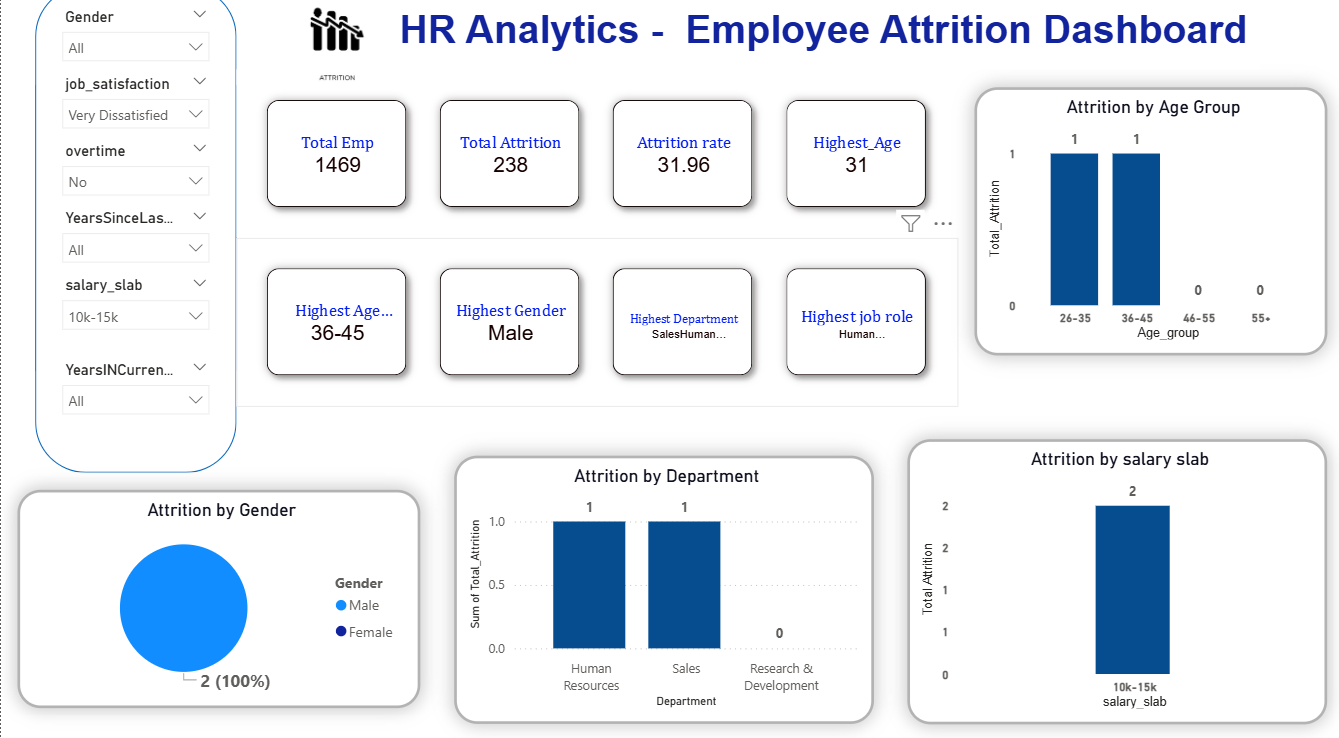

What the dashboard file says about the page in this screenshot:
{"tool":"powerbi","page":{"name":"Dashboard 1","canvas":[1280,720],"ordinal":1},"visuals":[{"type":"shape","box":[32,0,192,464],"z":0},{"type":"slicer","fields":{"Values":["job_satisfaction_attrition.job_satisfaction"]},"box":[48,80,160,64],"z":1000},{"type":"slicer","fields":{"Values":["overtime_attrition.overtime"]},"box":[48,144,160,64],"z":2000},{"type":"slicer","fields":{"Values":["Gender_attrition.Gender"]},"box":[48,16,160,64],"z":3000},{"type":"cardVisual","fields":{"Data":["Sum(Kpi_total_emp_gender.count(emp_id))","Sum(kpi_Total_attrition_gender.Total_Attrition)","Sum(Kpi_total_attrition_rate_gender.overall_attrition_rate)","Age_attrition.Highest Attrition Age"]},"box":[224,80,688,160],"z":4000},{"type":"cardVisual","fields":{"Data":["employee_attrition_Agegroup_attrition.Highest Attrition Age_Group","Gender_attrition.Highest Attrition Gender","employee_attrition departmet_attrition.Highest Attrition Department","employee_attrition jobrole_attritionn.Highest Attrition role"]},"box":[224,240,688,160],"z":5000},{"type":"clusteredColumnChart","title":"Attrition by Age Group","fields":{"Category":["employee_attrition_Agegroup_attrition.Age_group"],"Y":["Sum(employee_attrition_Agegroup_attrition.Total_Attrition)"]},"box":[928,96,336,256],"z":6000},{"type":"pieChart","title":"Attrition by Gender","fields":{"Category":["employee_attrition gender_attrition.Gender"],"Y":["Sum(employee_attrition gender_attrition.Total_Attrition)"]},"box":[16,480,384,208],"z":7000},{"type":"columnChart","title":"Attrition by Department","fields":{"Category":["employee_attrition departmet_attrition.Department"],"Y":["Sum(Department_attrition.Total_Attrition)"]},"box":[432,448,400,256],"z":8000},{"type":"clusteredColumnChart","title":"Attrition by salary slab","fields":{"Category":["employee_attrition salary_attrition.salary_slab"],"Y":["Sum(employee_attrition salary_attrition.Total_Attrition)"]},"box":[864,432,400,272],"z":9000},{"type":"image","box":[224,0,192,96],"z":10000},{"type":"textbox","box":[368,16,832,64],"z":11000},{"type":"slicer","fields":{"Values":["promption_attrition.YearsSinceLastPromption"]},"box":[48,208,160,64],"z":12000},{"type":"slicer","fields":{"Values":["salary_attrition.salary_slab"]},"box":[48,272,160,64],"z":13000},{"type":"slicer","fields":{"Values":["currentrole_attrition.YearsINCurrentRole"]},"box":[48,352,160,64],"z":14000}]}

Visuals, with their boxes in screenshot pixels (x1, y1, x2, y2), scaled from the page's 1280x720 canvas onto the 1339x738 screenshot:
shape: (33,0,234,476)
slicer - job_satisfaction_attrition.job_satisfaction: (50,82,218,148)
slicer - overtime_attrition.overtime: (50,148,218,213)
slicer - Gender_attrition.Gender: (50,16,218,82)
cardVisual - Sum(Kpi_total_emp_gender.count(emp_id)) x Sum(kpi_Total_attrition_gender.Total_Attrition): (234,82,954,246)
cardVisual - employee_attrition_Agegroup_attrition.Highest Attrition Age_Group x Gender_attrition.Highest Attrition Gender: (234,246,954,410)
"Attrition by Age Group" clusteredColumnChart: (971,98,1322,361)
"Attrition by Gender" pieChart: (17,492,418,705)
"Attrition by Department" columnChart: (452,459,870,722)
"Attrition by salary slab" clusteredColumnChart: (904,443,1322,722)
image: (234,0,435,98)
textbox: (385,16,1255,82)
slicer - promption_attrition.YearsSinceLastPromption: (50,213,218,279)
slicer - salary_attrition.salary_slab: (50,279,218,344)
slicer - currentrole_attrition.YearsINCurrentRole: (50,361,218,426)
